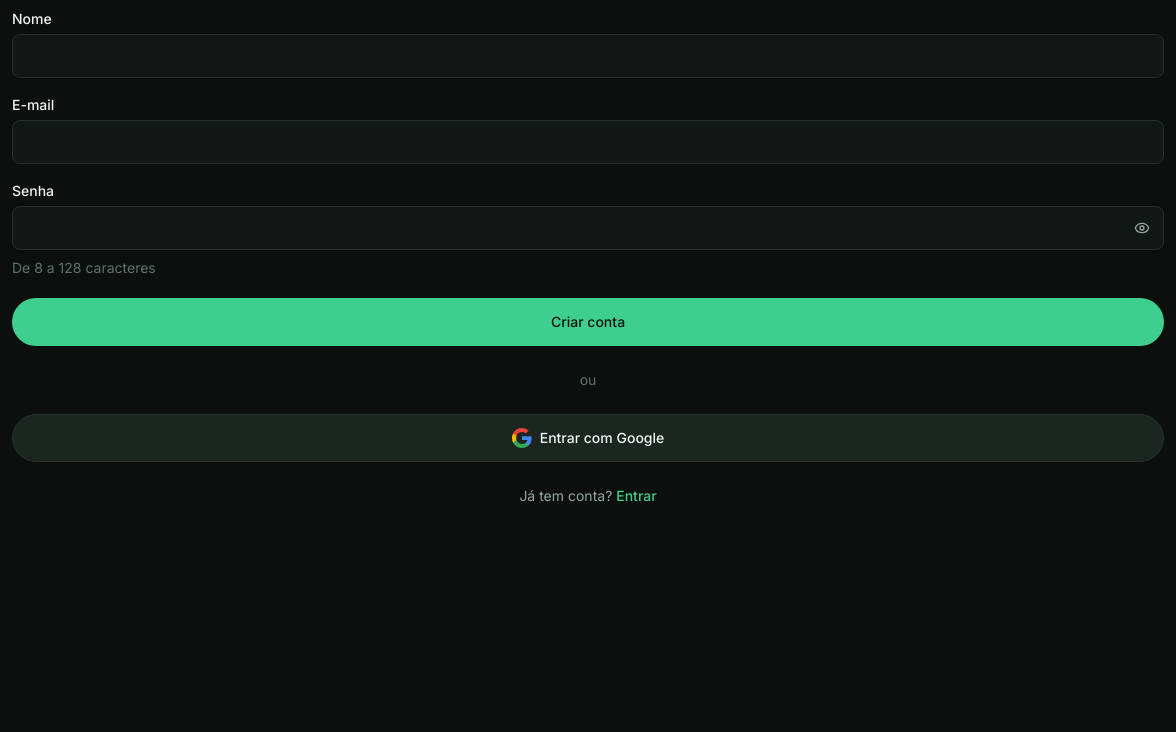
Test: RegisterForm › mostra EMAIL_TAKEN em região de alerta
Type "Ana" into the field labelled "Nome" at [588, 56], box [12,34,1164,78]
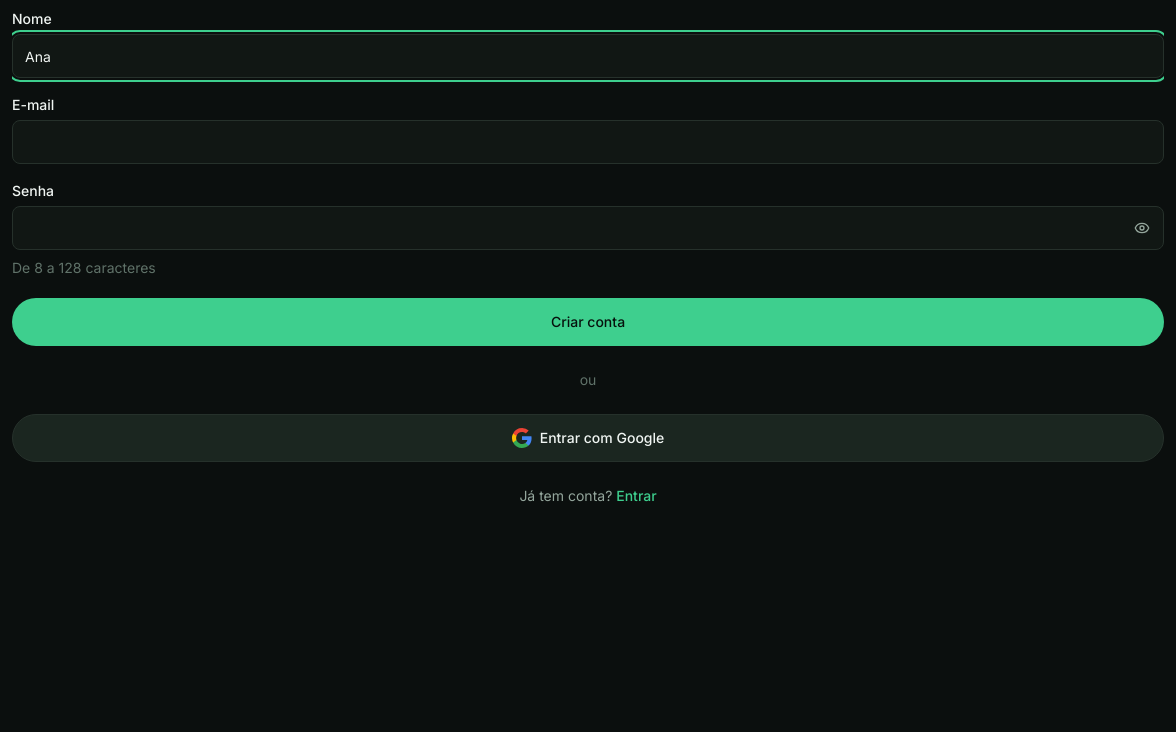
Type "ana@a.com" into the field labelled "E-mail" at [588, 142], box [12,120,1164,164]
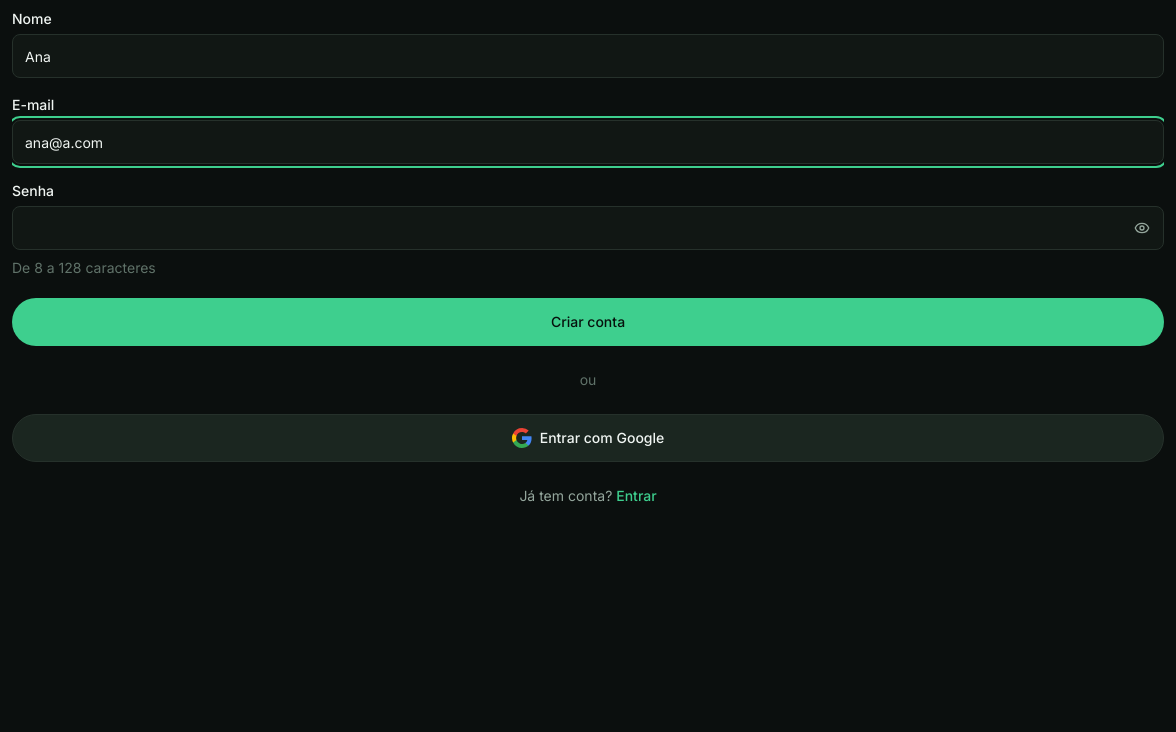
Type "12345678" into the password field labelled "Senha" at [588, 228], box [12,206,1164,250]
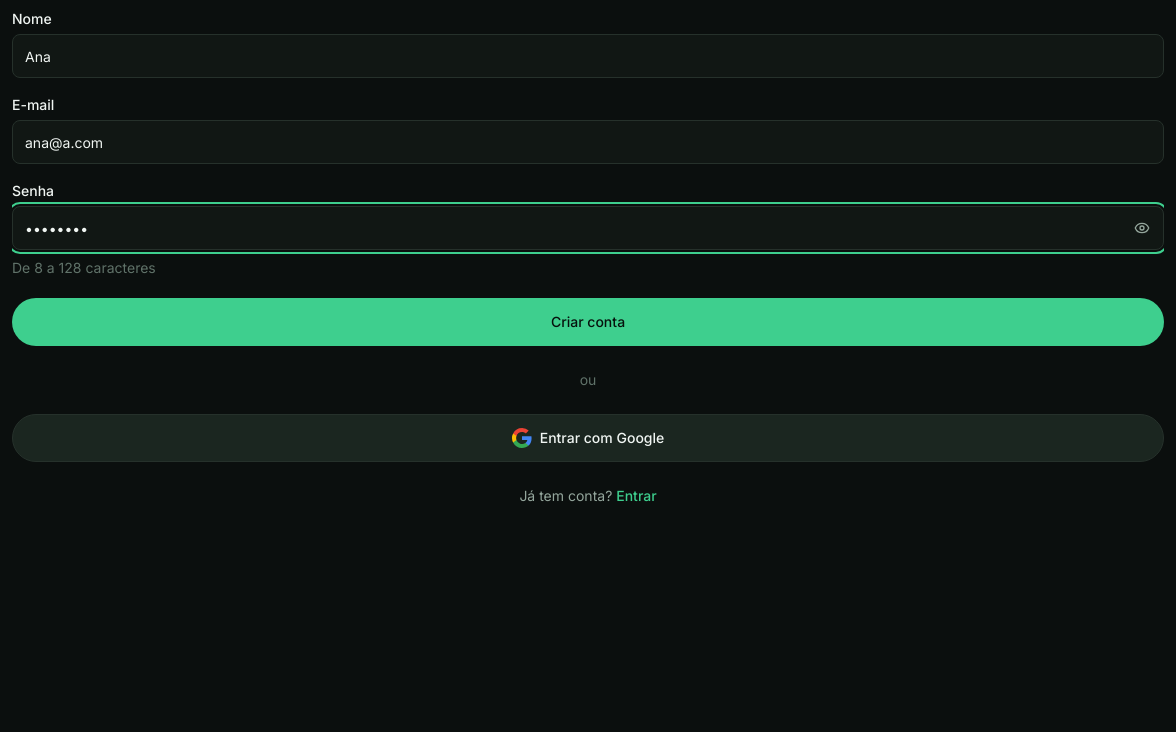
Click the button "Criar conta" at [588, 322], box [12,298,1164,346]
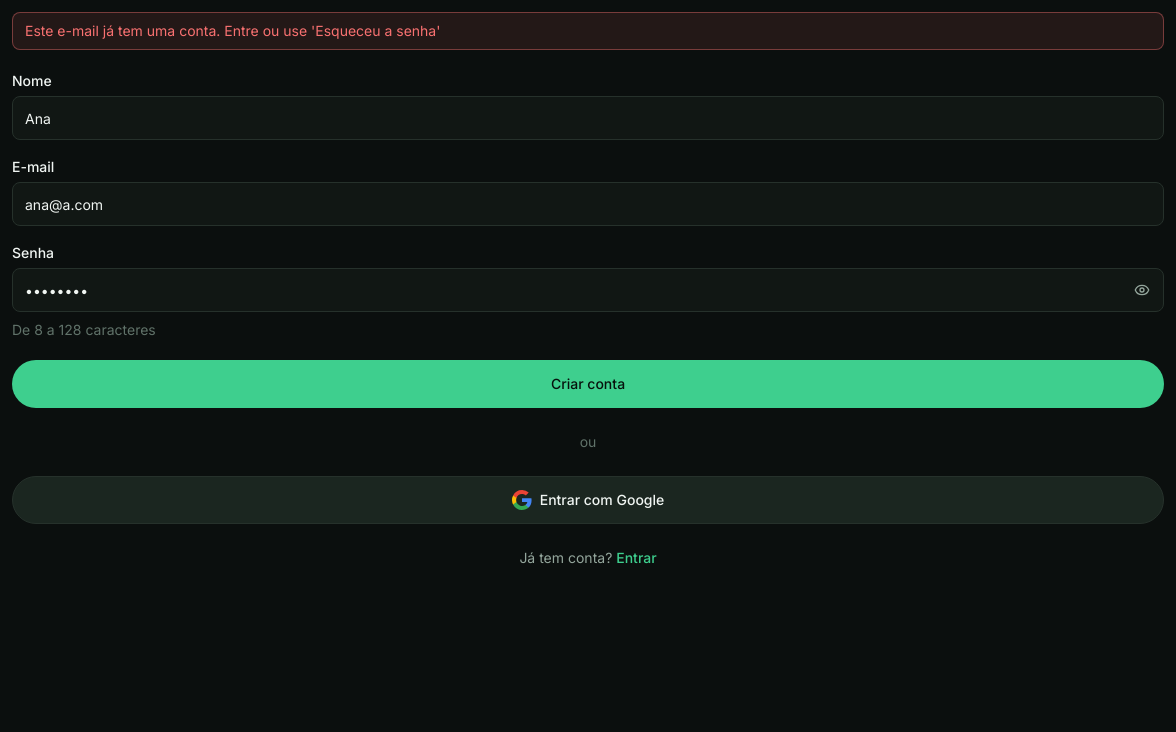
expect the message shows "Este e-mail já tem uma conta": met, box [25,22,440,39]
